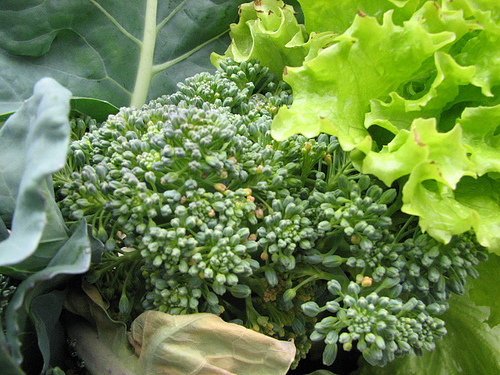broccoli: (52, 57, 490, 374)
